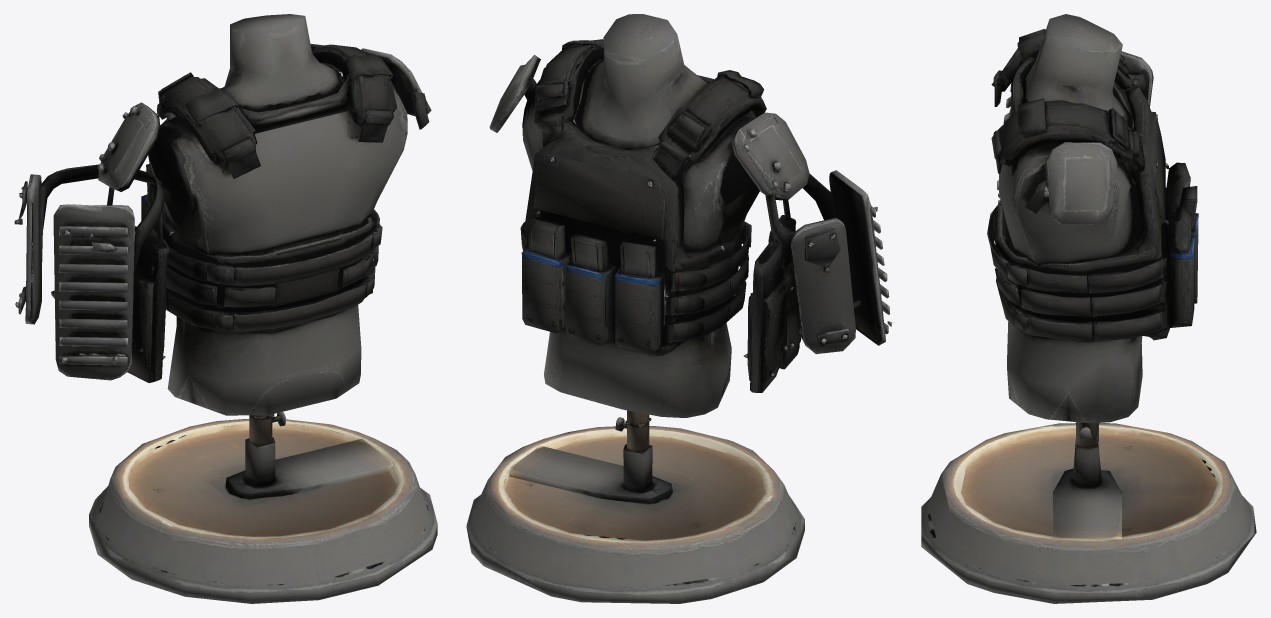
The model's file is armor_vest.glb.
The picture shows the model from 3 angles, left to right: view 1: azimuth 30°, elevation 25°; view 2: azimuth 150°, elevation 25°; view 3: azimuth 270°, elevation 25°; orthographic projection. The views are drawn at different scales.
Parts seen in each view (by area): view 1: armor_vest; view 2: armor_vest; view 3: armor_vest.
Boxes of the visible parts, bbox=[...] form: armor_vest: bbox=[14, 14, 437, 603]; armor_vest: bbox=[466, 14, 892, 603]; armor_vest: bbox=[921, 14, 1256, 603].
Size of the model in its own units: 0.5037 by 0.65 by 0.3892.
1 material, 1 textured.
